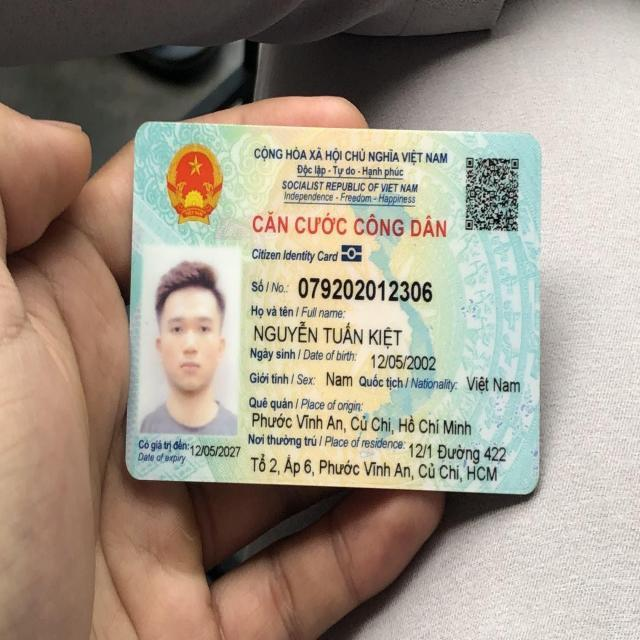current_place: (249, 453, 499, 483), (407, 438, 507, 464)
dob: (369, 347, 438, 374)
expire_date: (188, 441, 241, 462)
gender: (321, 364, 352, 392)
id: (297, 271, 436, 309)
name: (254, 314, 408, 350)
nationality: (463, 371, 519, 397)
origin_place: (245, 408, 474, 439)
